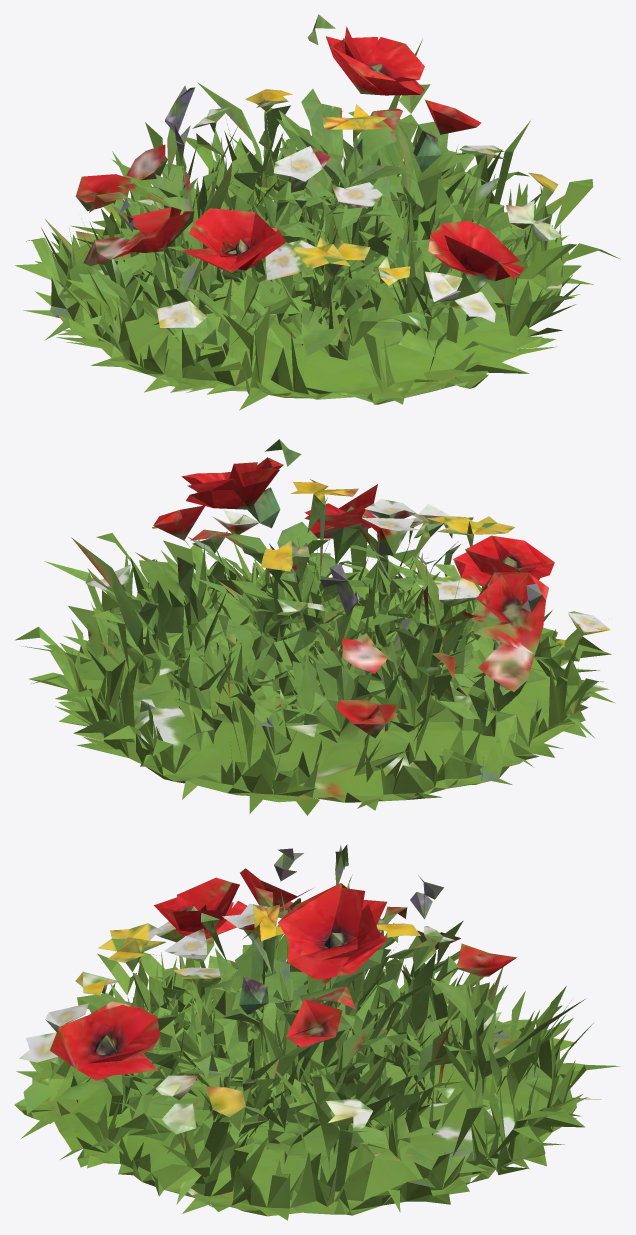
The model's file is forest_wildflowers.glb.
3 views of the same model, one above another, from view 1: azimuth 30°, elevation 25°; view 2: azimuth 150°, elevation 25°; view 3: azimuth 270°, elevation 25° (orthographic). The views are drawn at different scales.
Parts seen in each view (by area): view 1: output_unwrapped; view 2: output_unwrapped; view 3: output_unwrapped.
Part boxes in pixels (x1,y1,x2,y2): output_unwrapped: [14, 14, 620, 410]; output_unwrapped: [14, 439, 615, 815]; output_unwrapped: [14, 844, 620, 1220].
Size of the model in its own units: 1.88 by 0.8826 by 1.79.
Materials: 1 (1 with a texture image).
